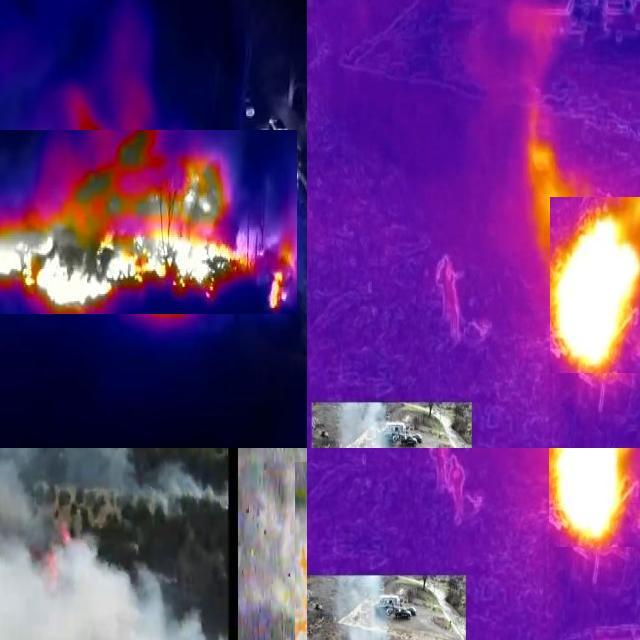fire: (1, 130, 297, 314), (550, 197, 640, 373), (549, 449, 640, 547), (42, 518, 73, 588)
